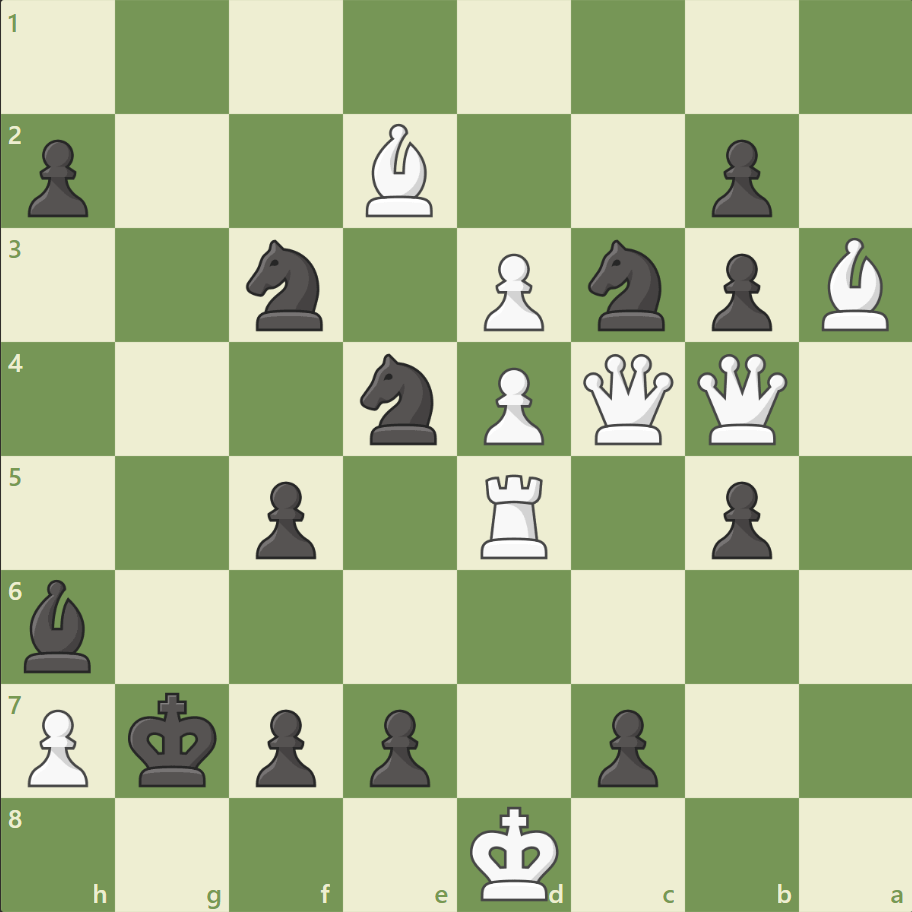B: (812, 233, 896, 336), (358, 120, 442, 222)
K: (465, 798, 565, 906)
P: (20, 700, 95, 791), (474, 359, 549, 450), (474, 246, 549, 337)
Q: (691, 349, 790, 449), (578, 349, 677, 449)
R: (473, 466, 556, 563)
b: (17, 574, 101, 676)
k: (124, 685, 224, 793)
n: (351, 348, 449, 450), (579, 234, 676, 337), (238, 234, 335, 337)
p: (247, 700, 322, 791), (701, 473, 776, 564), (247, 473, 322, 564), (701, 246, 776, 337), (701, 132, 776, 223), (20, 132, 95, 223), (588, 700, 662, 791), (361, 700, 435, 791)
